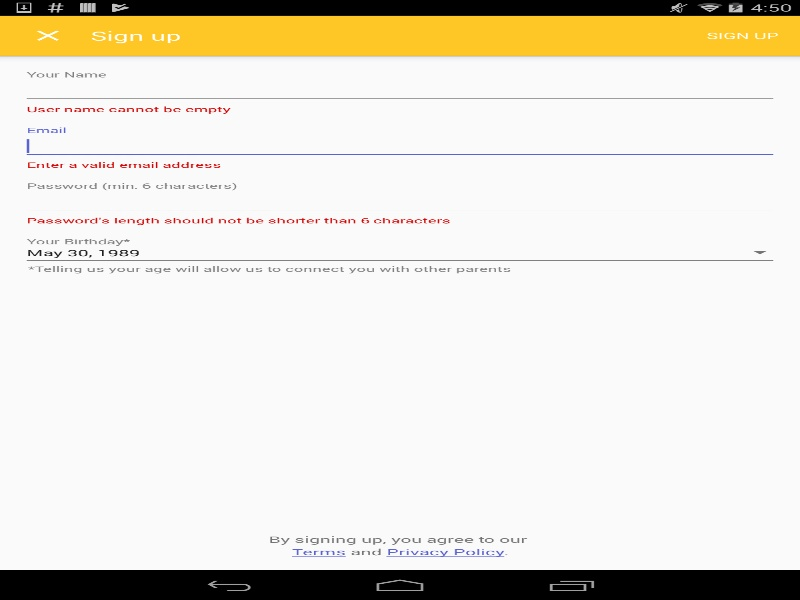Button: (10, 15, 85, 55)
Input: (21, 77, 778, 104), (21, 188, 778, 215), (21, 133, 778, 159), (21, 244, 778, 263)
